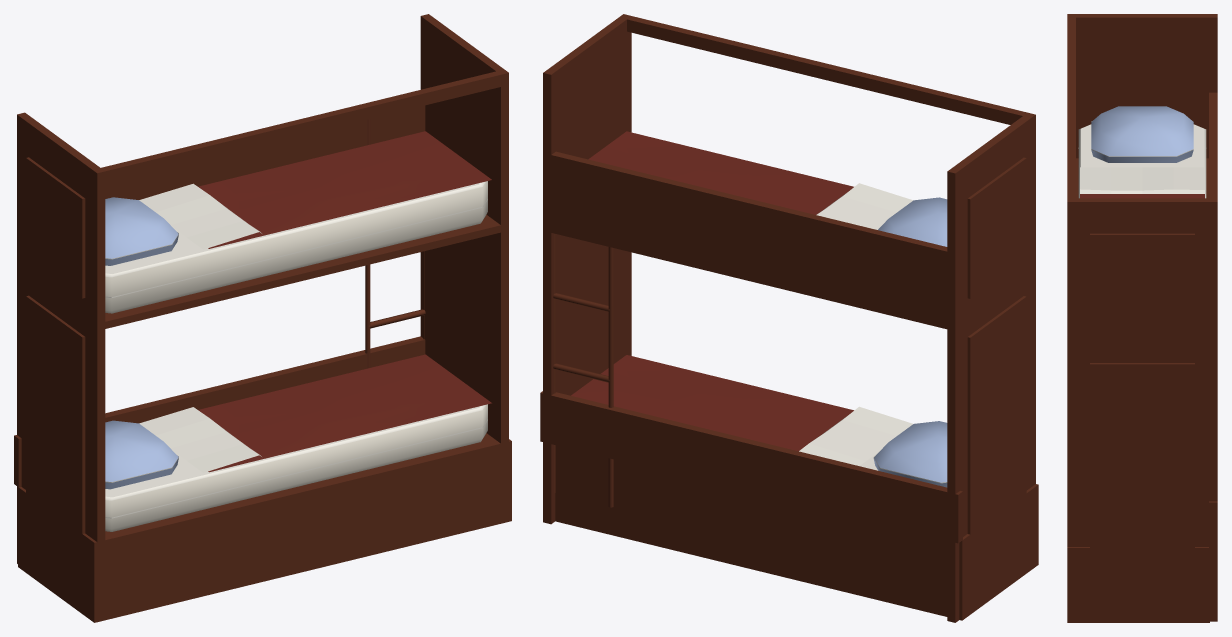
File: parametric-sized-berth-double-l180w60-3rd.glb
The picture shows the model from 3 angles, left to right: view 1: azimuth 30°, elevation 25°; view 2: azimuth 150°, elevation 25°; view 3: azimuth 270°, elevation 25°; orthographic projection. The views are drawn at different scales.
Visible parts, largest first — view 1: parametric-sized-berth-double-l180w60-3rd; view 2: parametric-sized-berth-double-l180w60-3rd; view 3: parametric-sized-berth-double-l180w60-3rd.
Part boxes in pixels (box(x1,y1,x2,y2)): parametric-sized-berth-double-l180w60-3rd: box(14, 14, 511, 622); parametric-sized-berth-double-l180w60-3rd: box(540, 14, 1038, 622); parametric-sized-berth-double-l180w60-3rd: box(1067, 14, 1217, 622).
Size of the model in its own units: 1.8 by 1.85 by 0.6.
